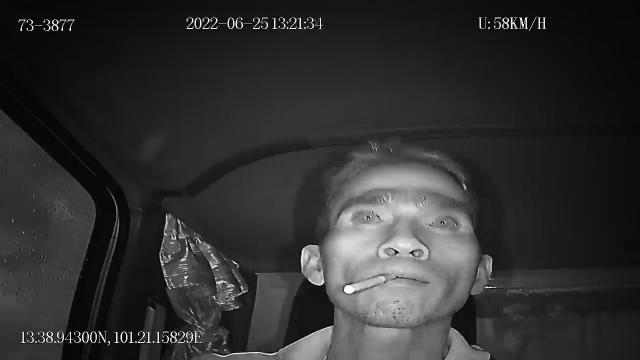SafeDriving: (415, 205, 467, 236), (347, 202, 389, 229)
Smoking: (343, 274, 395, 294)
